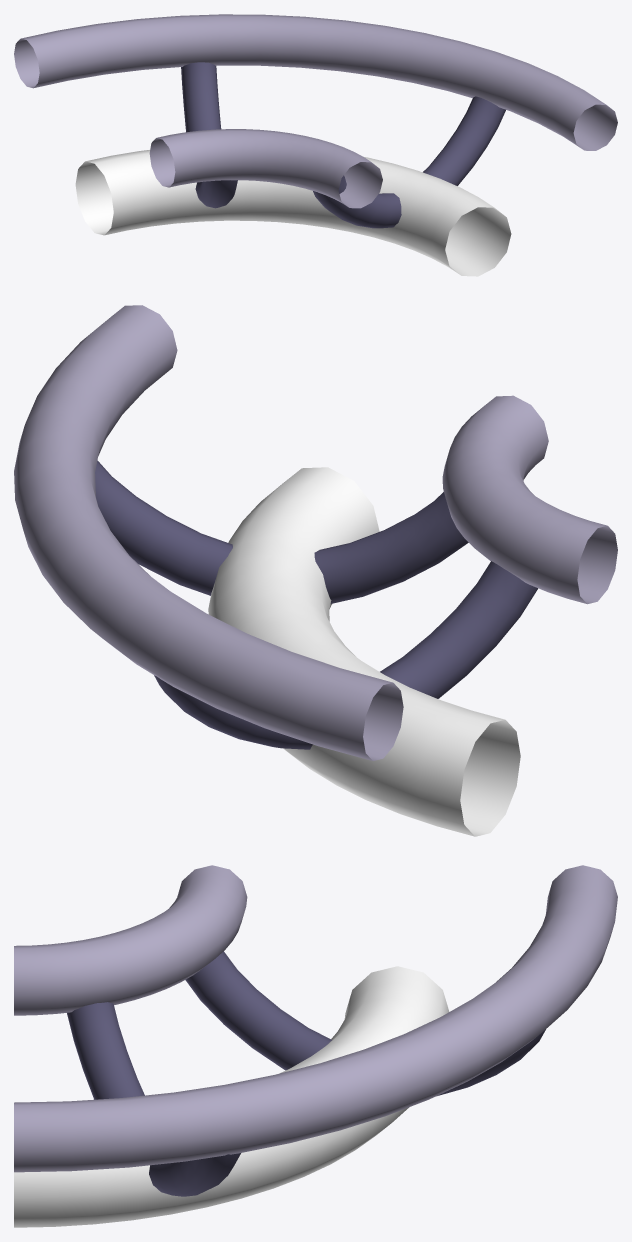
Rendered from bend.obj.
3 views of the same model, one above another, from view 1: azimuth 30°, elevation 25°; view 2: azimuth 150°, elevation 25°; view 3: azimuth 270°, elevation 25° (orthographic). The views are drawn at different scales.
Parts seen in each view (by area): view 1: Plane.303_Mesh; view 2: Plane.303_Mesh; view 3: Plane.303_Mesh.
Boxes of the visible parts, <box> form: Plane.303_Mesh: <box>14,14,617,276</box>; Plane.303_Mesh: <box>14,305,617,836</box>; Plane.303_Mesh: <box>14,865,617,1227</box>.
Size of the model in its own units: 3.75 by 1.34 by 3.75.
1 material, 1 textured.
